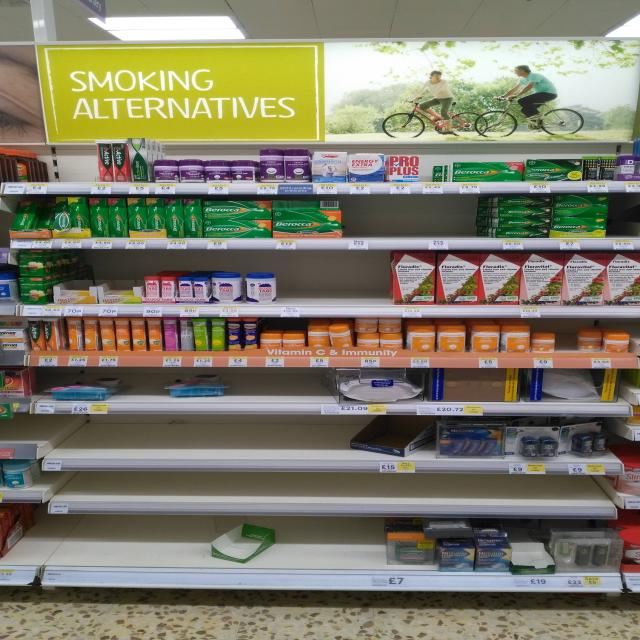empty: (72, 477, 607, 503), (59, 410, 346, 448), (6, 516, 207, 567), (338, 195, 489, 237), (278, 249, 397, 300), (273, 522, 383, 564), (219, 364, 337, 397), (33, 143, 103, 190), (125, 369, 167, 401)
